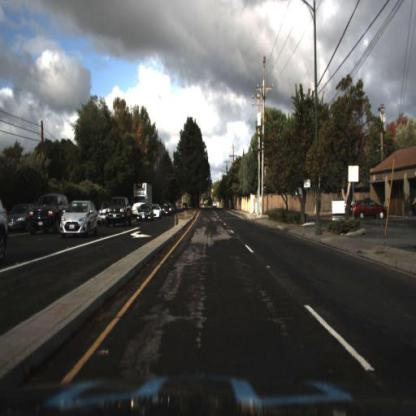car: (58, 197, 102, 239), (61, 197, 101, 242), (30, 194, 70, 233), (5, 202, 36, 232), (106, 194, 130, 230), (352, 197, 385, 217), (138, 202, 156, 222), (164, 200, 175, 221), (99, 205, 109, 228), (153, 204, 163, 222)
truck: (133, 175, 151, 207)
